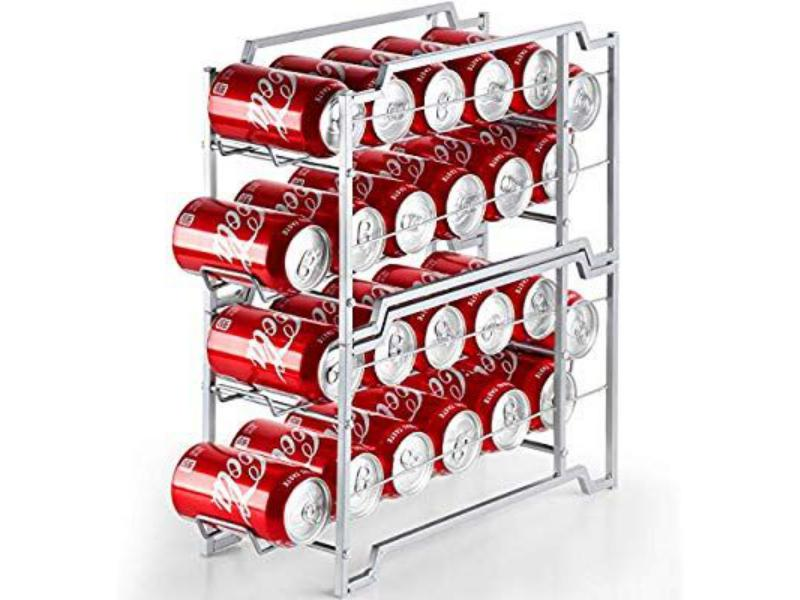can: (173, 444, 330, 547), (207, 307, 364, 400), (311, 80, 370, 163), (387, 419, 440, 511), (279, 210, 334, 297), (332, 442, 385, 528), (438, 395, 486, 488), (417, 298, 473, 372), (471, 286, 526, 361), (486, 378, 534, 459), (390, 182, 440, 259), (418, 66, 472, 137), (517, 42, 572, 111), (370, 320, 423, 389), (521, 273, 569, 349), (368, 76, 420, 146), (492, 147, 536, 228), (468, 52, 515, 127), (341, 206, 389, 277), (441, 169, 487, 242), (554, 67, 607, 129), (562, 289, 604, 366), (538, 136, 582, 208), (538, 370, 582, 437)
